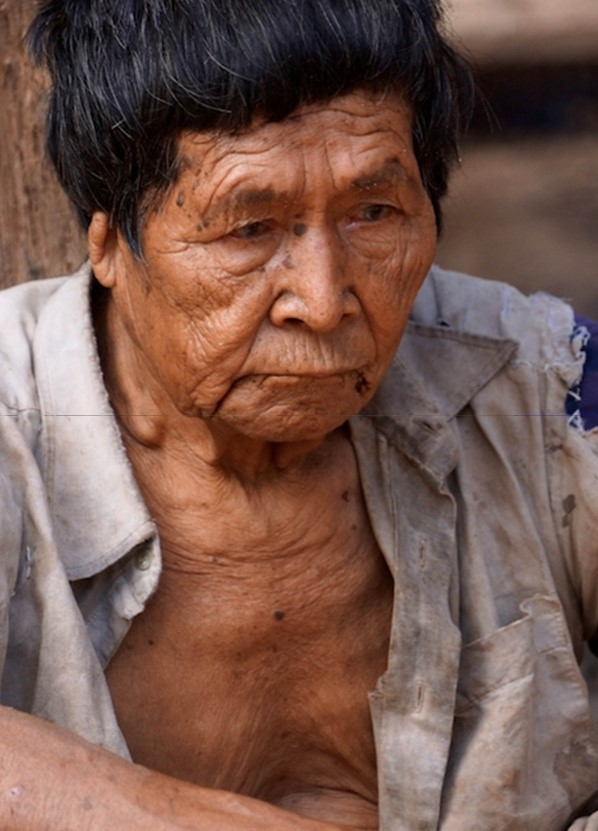face_no_mask: (64, 4, 454, 427)
